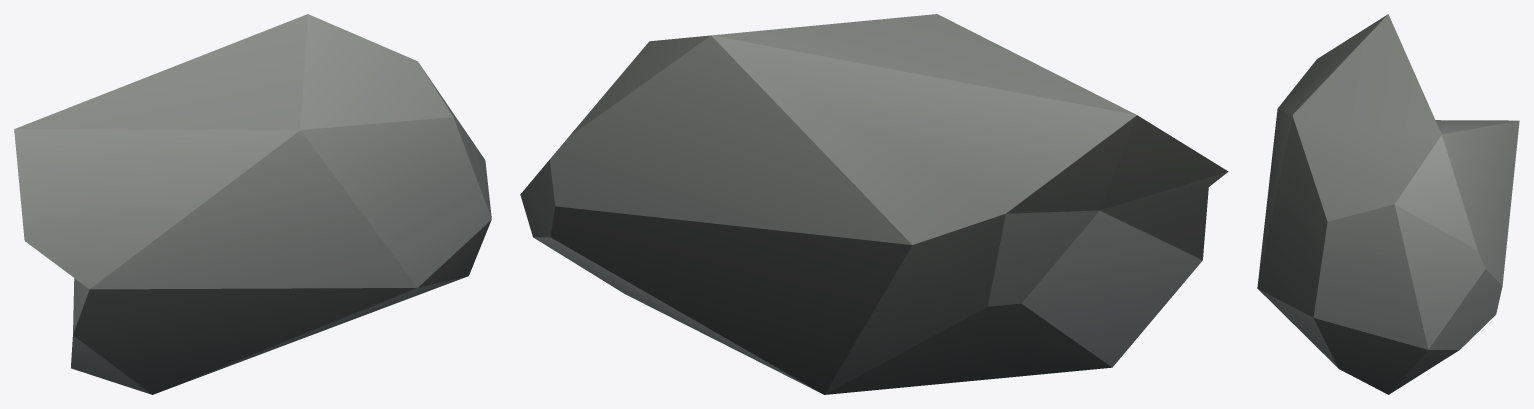
File: SM_Rocks_002.fbx
The picture shows the model from 3 angles, left to right: view 1: azimuth 30°, elevation 25°; view 2: azimuth 150°, elevation 25°; view 3: azimuth 270°, elevation 25°; orthographic projection. The views are drawn at different scales.
Visible parts, largest first — view 1: SM_Rocks_002; view 2: SM_Rocks_002; view 3: SM_Rocks_002.
Boxes of the visible parts, box(x1,y1,x2,y2) form: SM_Rocks_002: box(14, 14, 491, 394); SM_Rocks_002: box(520, 14, 1228, 394); SM_Rocks_002: box(1257, 14, 1519, 394).
Size of the model in its own units: 0.6377 by 0.3215 by 0.3357.
